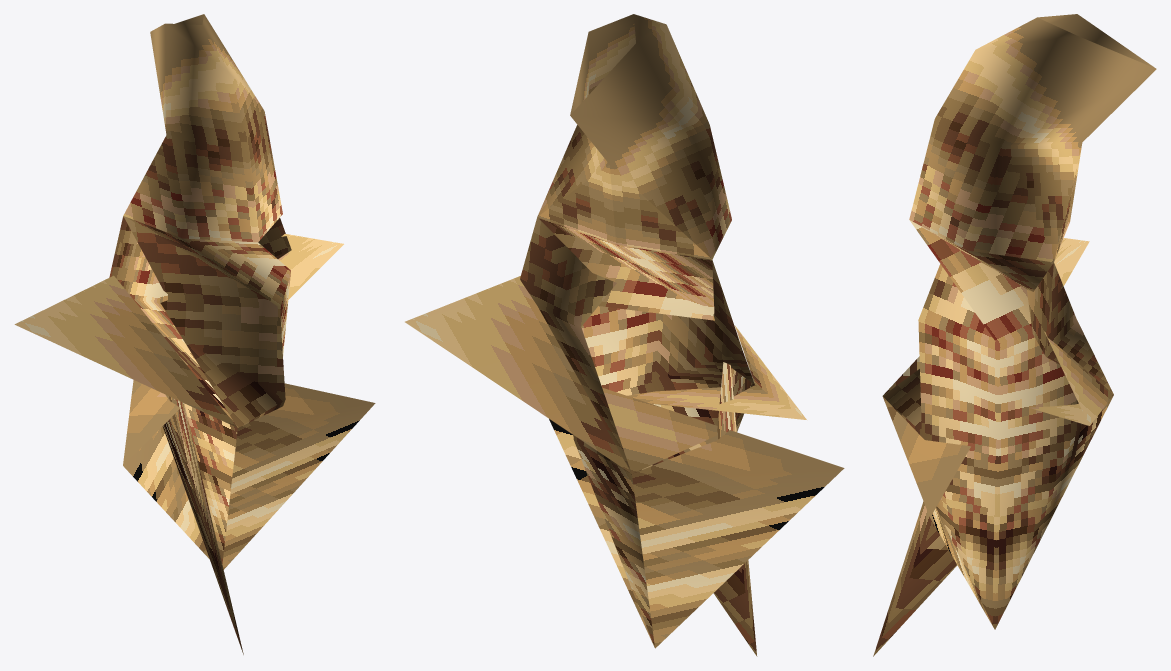
3 views of the same model, side by side, from view 1: azimuth 30°, elevation 25°; view 2: azimuth 150°, elevation 25°; view 3: azimuth 270°, elevation 25° (orthographic). The views are drawn at different scales.
Visible parts, largest first — view 1: 4829fish39_r; view 2: 4829fish39_r; view 3: 4829fish39_r.
Part boxes in pixels (x1=…): 4829fish39_r: x1=14, y1=14, x2=375, y2=654; 4829fish39_r: x1=405, y1=14, x2=844, y2=656; 4829fish39_r: x1=873, y1=14, x2=1156, y2=656.
Size of the model in its own units: 0.6504 by 1.08 by 0.4222.
1 material, 1 textured.
